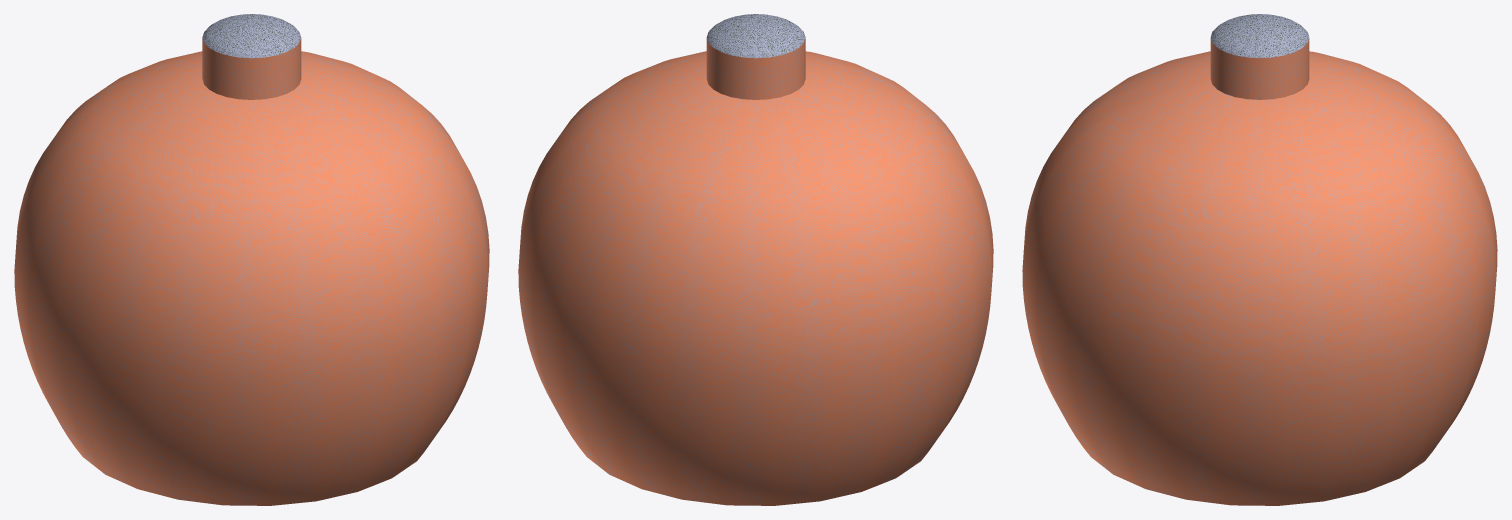
3 views of the same model, side by side, from view 1: azimuth 30°, elevation 25°; view 2: azimuth 150°, elevation 25°; view 3: azimuth 270°, elevation 25° (orthographic).
Parts seen in each view (by area): view 1: Model; view 2: Model; view 3: Model.
Boxes of the visible parts, x1,y1,x2,y2 form: Model: [14, 14, 489, 505]; Model: [518, 14, 993, 505]; Model: [1022, 14, 1497, 505].
Size of the model in its own units: 8.12 by 7.67 by 8.12.
